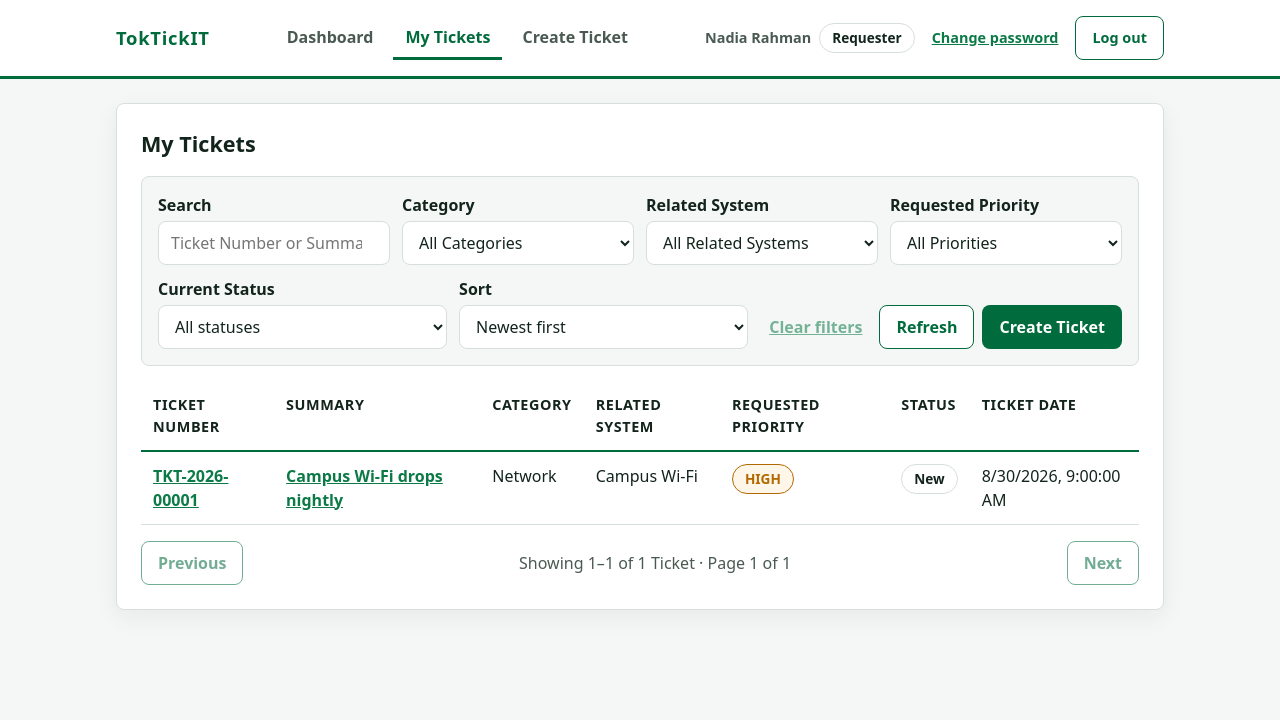
Scenario: My Tickets — empty and no-results are different › treats a status filter that matched nothing as no-results, and Clear filters removes it
Expected: the heading "My Tickets" is shown, [141,129,256,158]
Expected: the table is shown, [141,382,1139,525]
Step 1. Select "Cancelled" in the dropdown labelled "Current Status" → {"x": 303, "y": 327}, box [158,305,447,349]
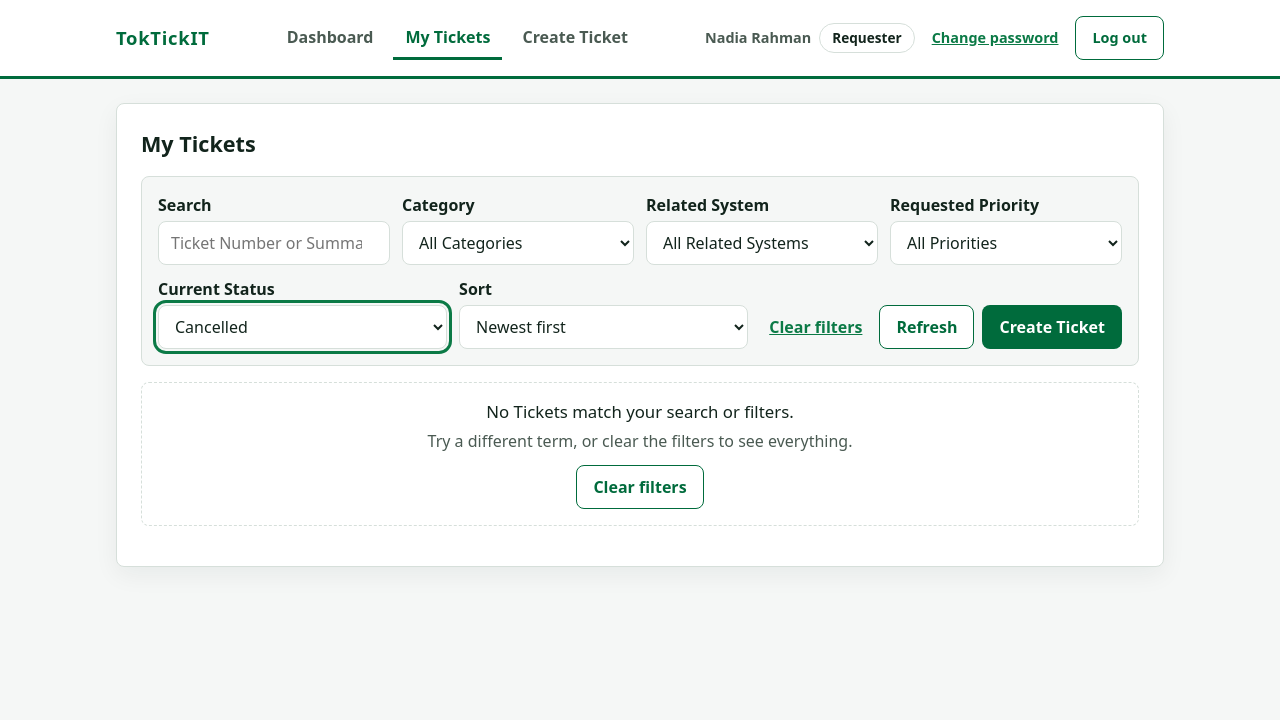
Result: the text "No Tickets match your search or filters." is shown at [486,400,794,423]
Step 2. Click the button "Clear filters" below "Related System" → {"x": 816, "y": 327}, box [760,305,871,349]
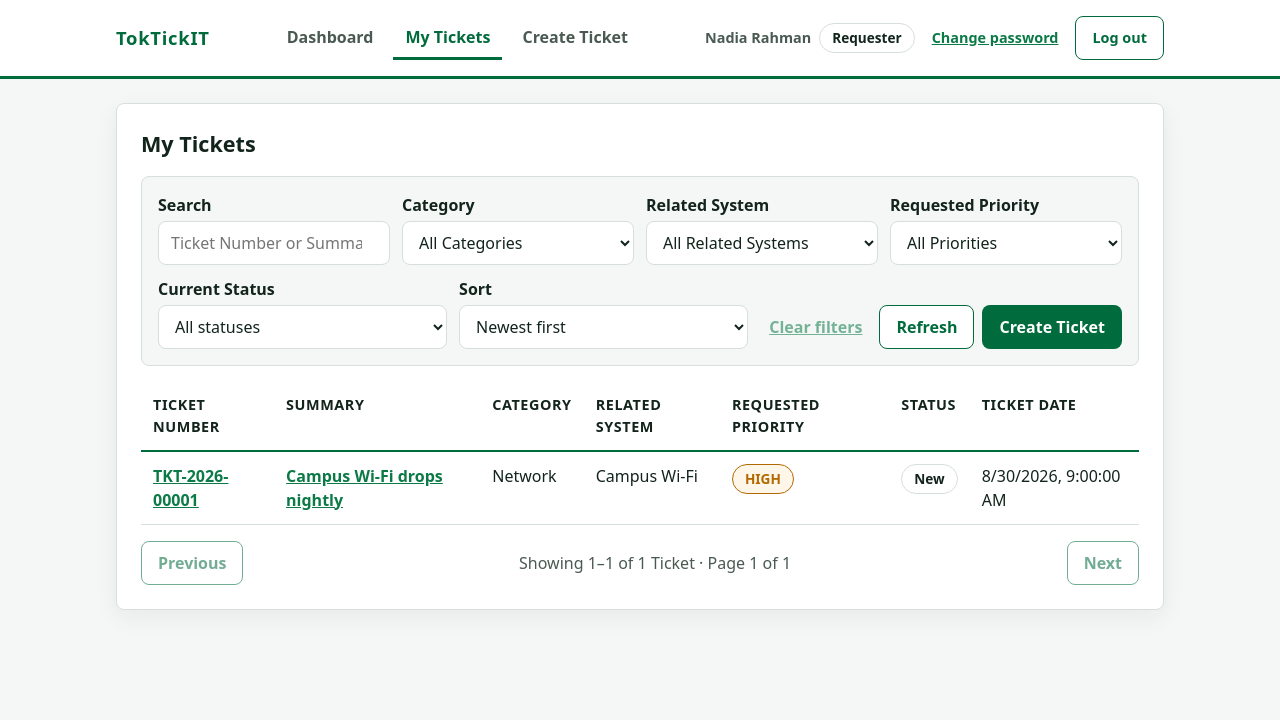
Result: the link "Campus Wi-Fi drops nightly" is shown at [286,465,443,511]
